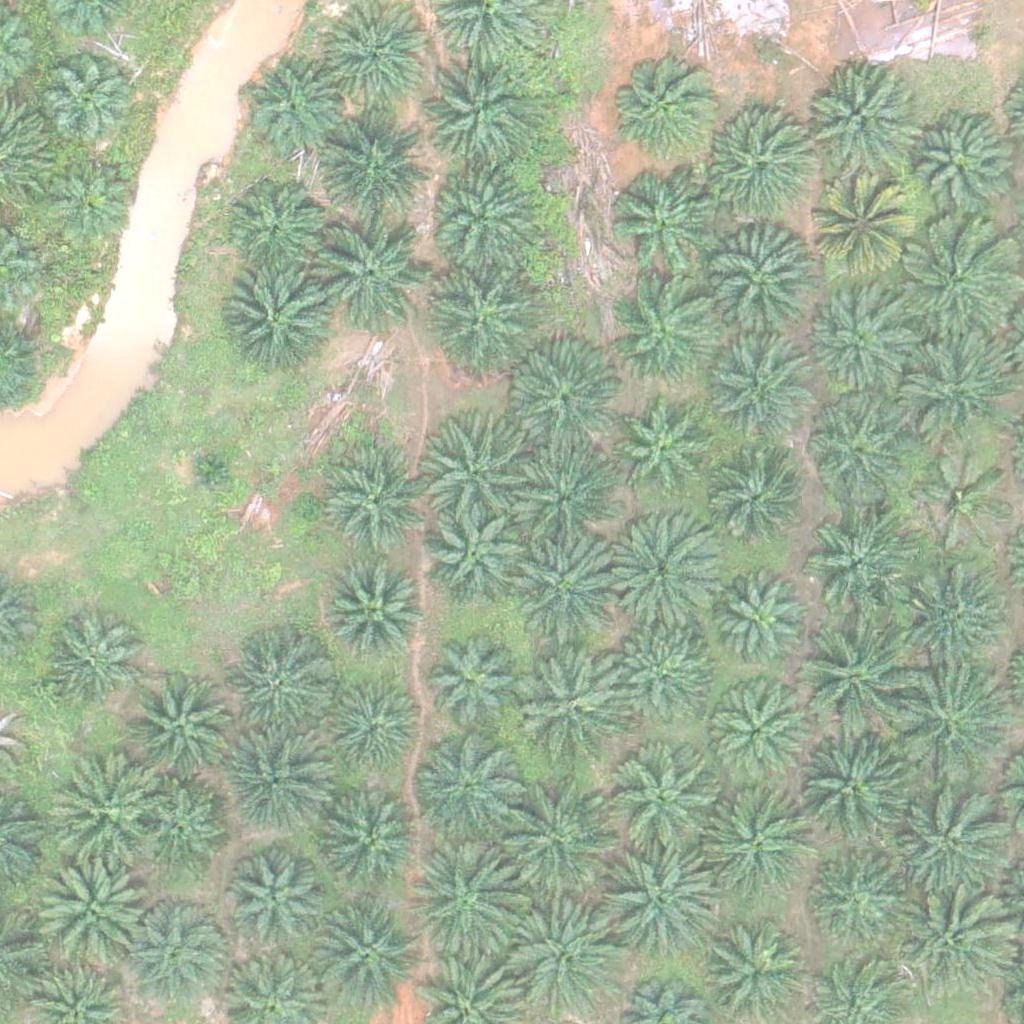Kelapa_Sawit: (797, 729, 910, 843), (604, 513, 717, 627), (513, 529, 626, 643), (507, 906, 620, 1020), (404, 846, 517, 960), (430, 156, 543, 270), (307, 899, 420, 1013), (421, 61, 534, 175), (891, 783, 1004, 896), (894, 554, 1007, 667), (898, 334, 1011, 447), (902, 222, 1015, 335), (796, 623, 909, 736), (705, 229, 818, 342), (699, 787, 812, 900), (607, 171, 720, 284), (609, 748, 722, 861), (518, 647, 631, 760), (218, 268, 331, 381), (219, 726, 332, 839), (901, 110, 1014, 223), (894, 668, 1006, 782), (610, 276, 722, 390), (411, 730, 523, 844), (608, 48, 720, 162), (318, 105, 430, 219), (894, 888, 1006, 1001), (802, 502, 914, 615), (611, 845, 723, 958), (511, 351, 623, 464), (500, 780, 612, 893), (422, 259, 534, 372), (422, 407, 534, 520), (310, 216, 422, 329), (124, 670, 236, 783), (47, 753, 159, 866), (34, 851, 146, 964), (804, 67, 916, 180), (694, 111, 806, 224), (803, 288, 903, 389), (805, 400, 905, 501), (809, 853, 909, 954), (711, 345, 811, 446), (706, 685, 806, 786), (612, 400, 712, 501), (423, 635, 523, 736), (424, 505, 524, 606), (225, 178, 325, 279), (225, 856, 325, 957), (126, 900, 226, 1001), (40, 611, 140, 712), (244, 58, 344, 159), (914, 450, 1014, 550), (809, 182, 909, 282), (703, 459, 803, 559), (614, 632, 714, 732), (514, 448, 614, 548), (325, 456, 425, 556), (326, 565, 426, 665), (326, 681, 426, 781), (322, 797, 422, 897), (228, 641, 328, 741), (716, 579, 804, 668), (136, 784, 224, 872), (47, 155, 135, 243), (45, 63, 132, 151), (183, 443, 233, 494)
